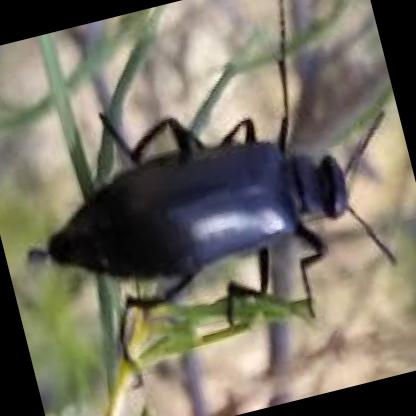blister beetle: (50, 0, 400, 312)
